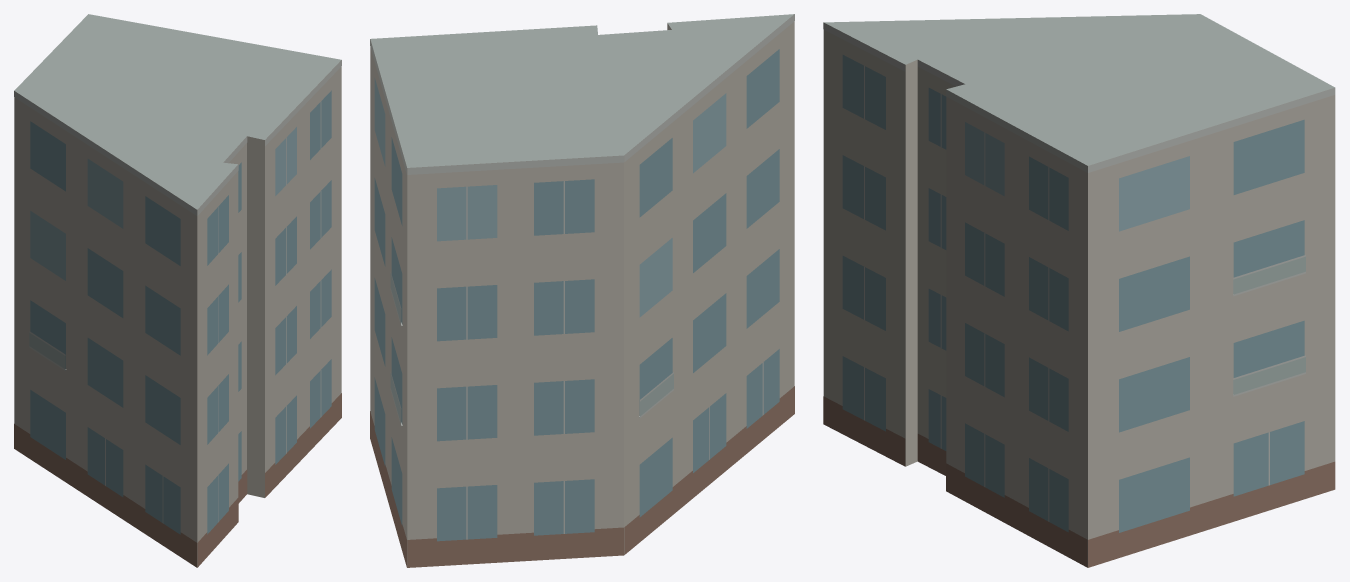
The model's file is survey-upis-32972211.glb.
The picture shows the model from 3 angles, left to right: view 1: azimuth 30°, elevation 25°; view 2: azimuth 150°, elevation 25°; view 3: azimuth 270°, elevation 25°; orthographic projection. The views are drawn at different scales.
Visible parts, largest first — view 1: survey-upis-32972211.tmp; view 2: survey-upis-32972211.tmp; view 3: survey-upis-32972211.tmp.
Boxes of the visible parts, x1=… form: survey-upis-32972211.tmp: x1=14, y1=14, x2=341, y2=567; survey-upis-32972211.tmp: x1=370, y1=14, x2=794, y2=567; survey-upis-32972211.tmp: x1=823, y1=14, x2=1335, y2=567.
Size of the model in its own units: 11.16 by 13.75 by 15.88.
